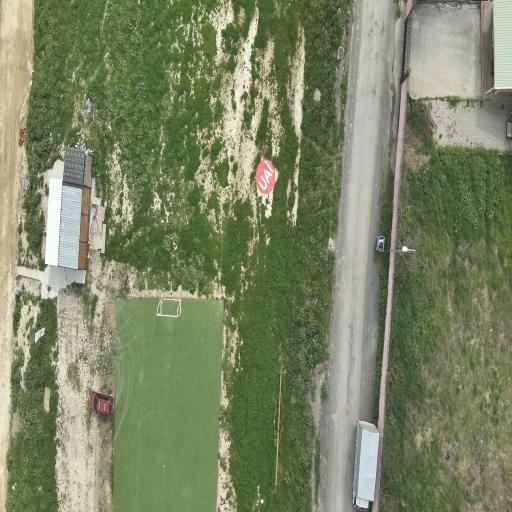UAI: (256, 159, 275, 194)
car: (353, 421, 379, 510), (90, 392, 114, 415)
